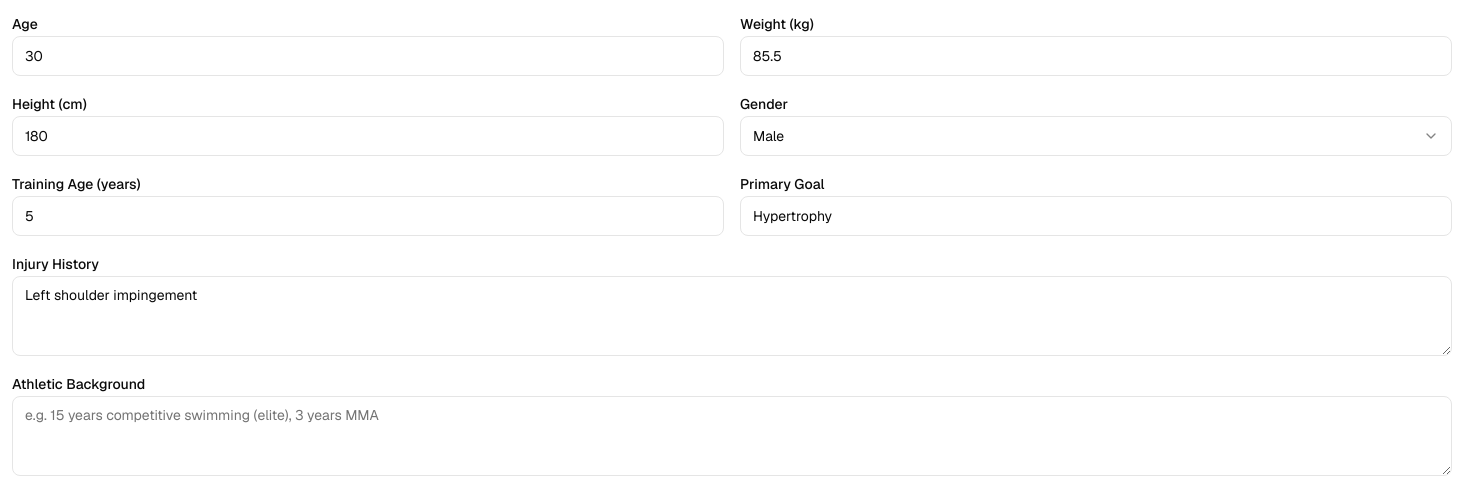
Test case: ProfileForm › error handling › reverts field and shows toast on save failure
The width and height of the screenshot is (1464, 493).
Step 1. Replace the text in the field labelled "Primary Goal" with "Bad value" → (1096, 216), box [740,196,1452,236]
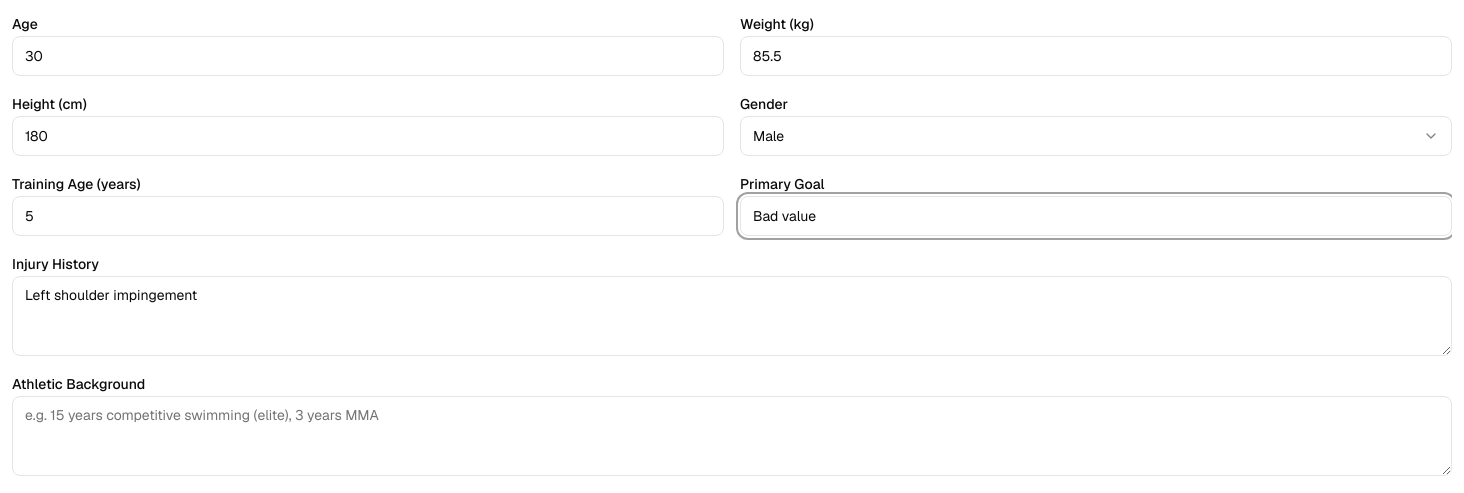
Step 2. Press Tab
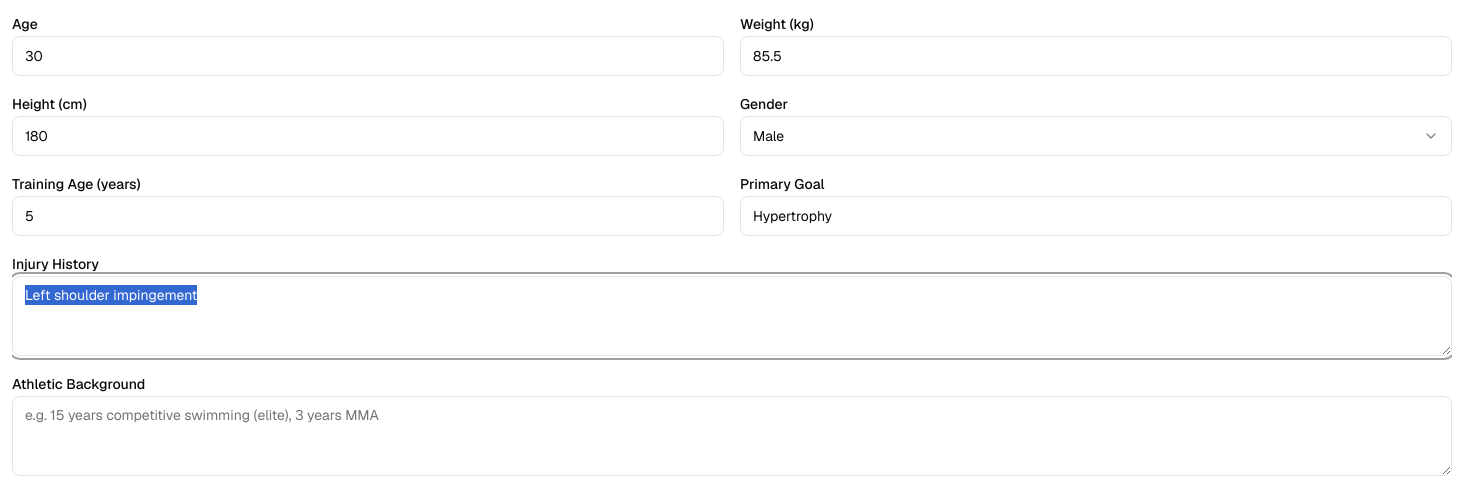
Now the field labelled "Primary Goal" holds "Hypertrophy", box [740,196,1452,236]
